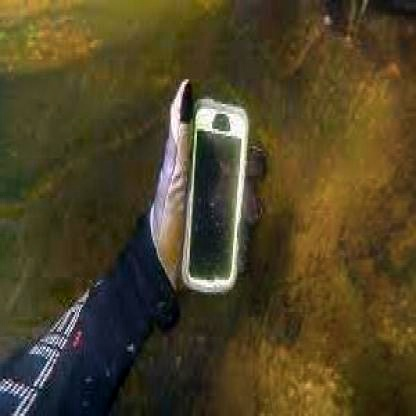cellphone: (182, 104, 246, 297)
